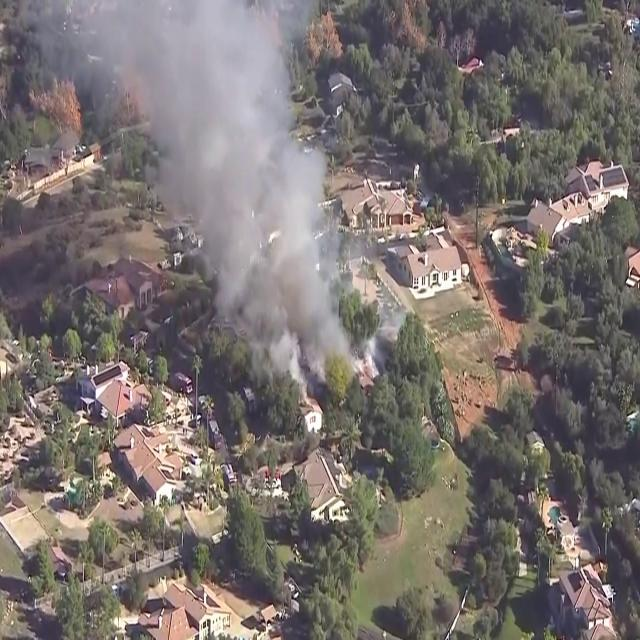Smoke: (108, 1, 362, 412)
